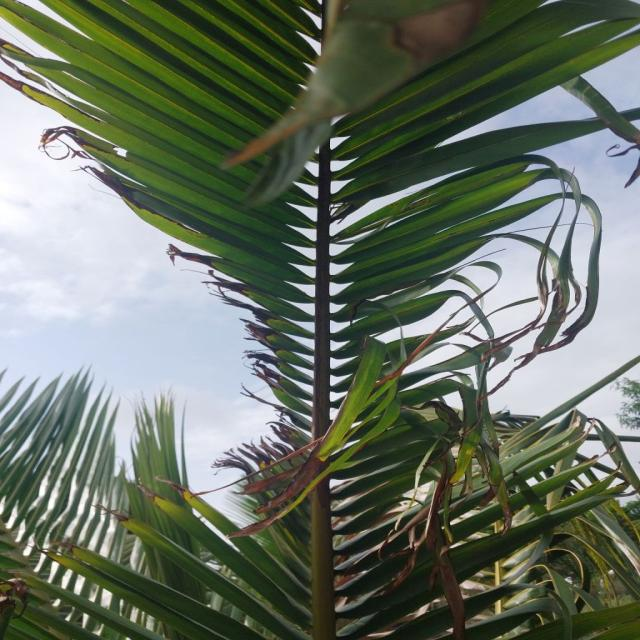leaf rot: (0, 50, 640, 640)
